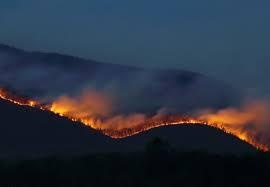fire: (18, 97, 269, 146)
